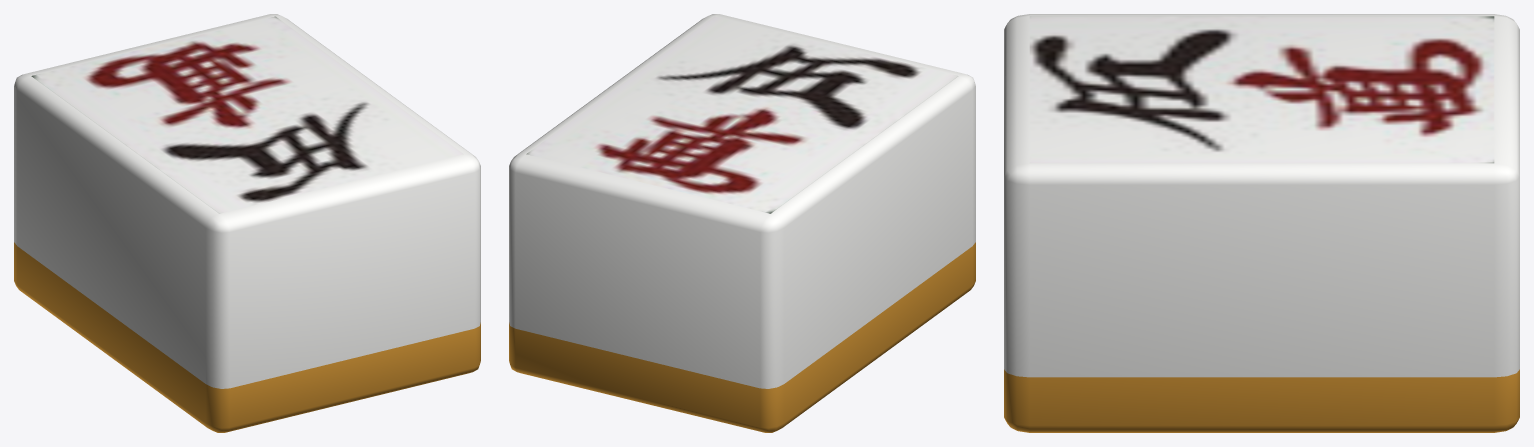
3 views of the same model, side by side, from view 1: azimuth 30°, elevation 25°; view 2: azimuth 150°, elevation 25°; view 3: azimuth 270°, elevation 25° (orthographic). The views are drawn at different scales.
Parts seen in each view (by area): view 1: hai; view 2: hai; view 3: hai.
Part boxes in pixels (x1,y1,x2,y2): hai: [14, 14, 480, 432]; hai: [509, 14, 975, 432]; hai: [1004, 14, 1519, 432].
Size of the model in its own units: 420 by 320 by 560.
3 materials, 1 textured.
